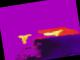Foc: (14, 28, 40, 48), (40, 24, 66, 40)
